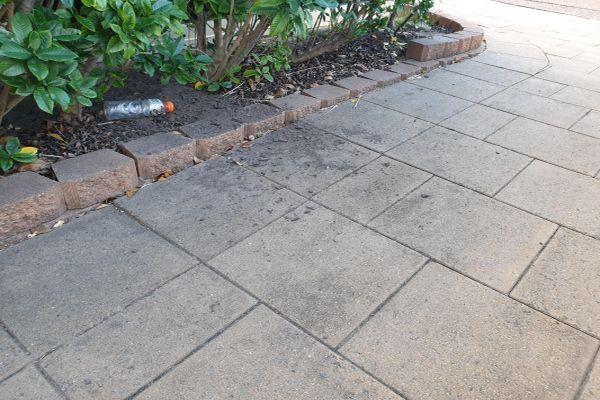Plastic Bottle: (103, 98, 175, 120)
